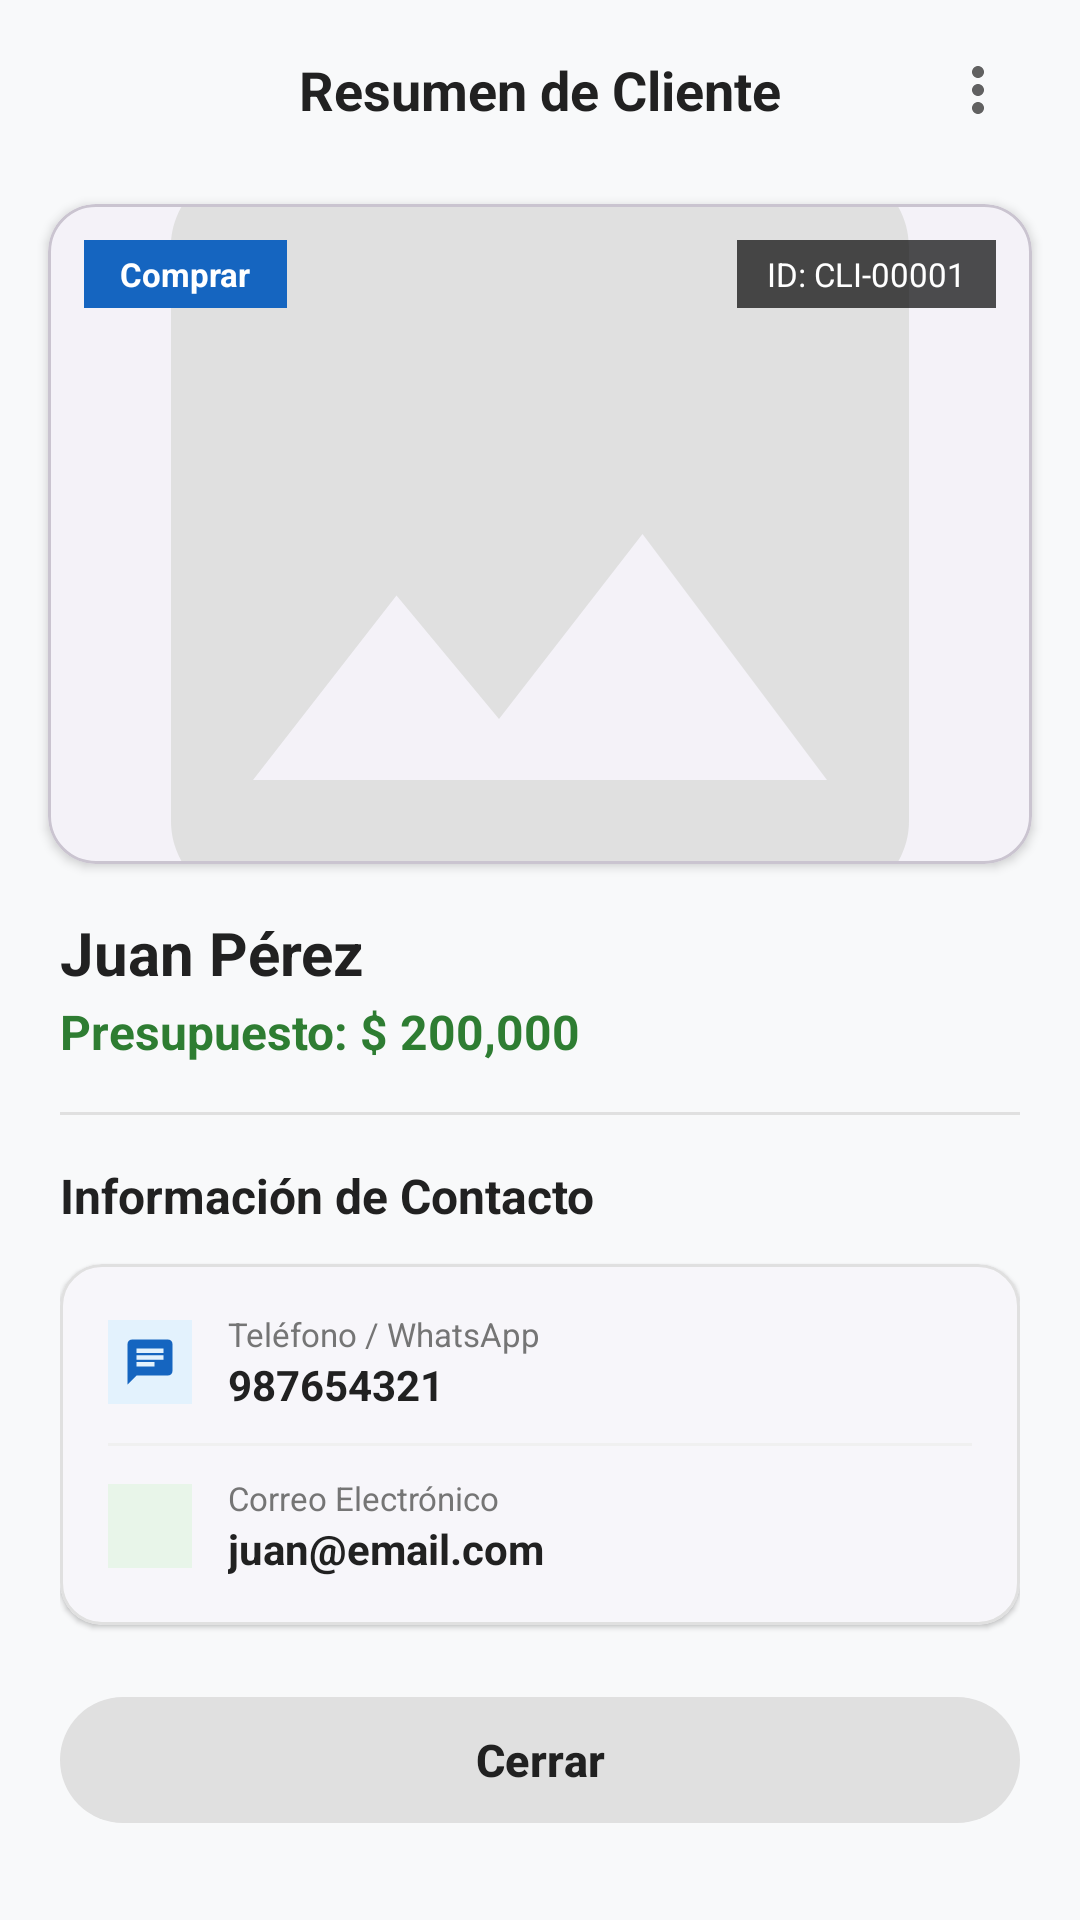

Screen size 1080px×1920px. Icon name, then its box in pixels as detection(x1, y1, x2, y2):
Más opciones: detection(972, 66, 984, 114)
